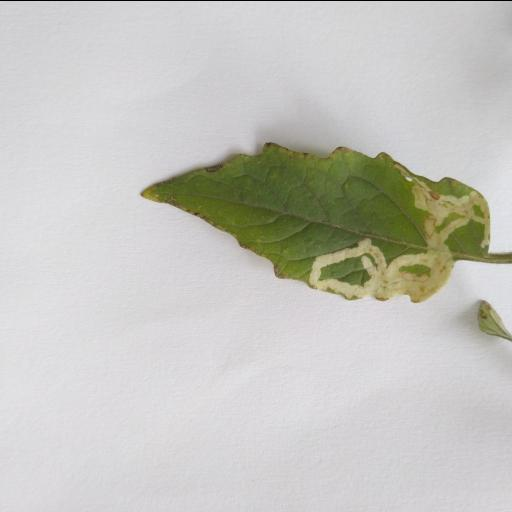Leaf Miner: (142, 138, 490, 308)
